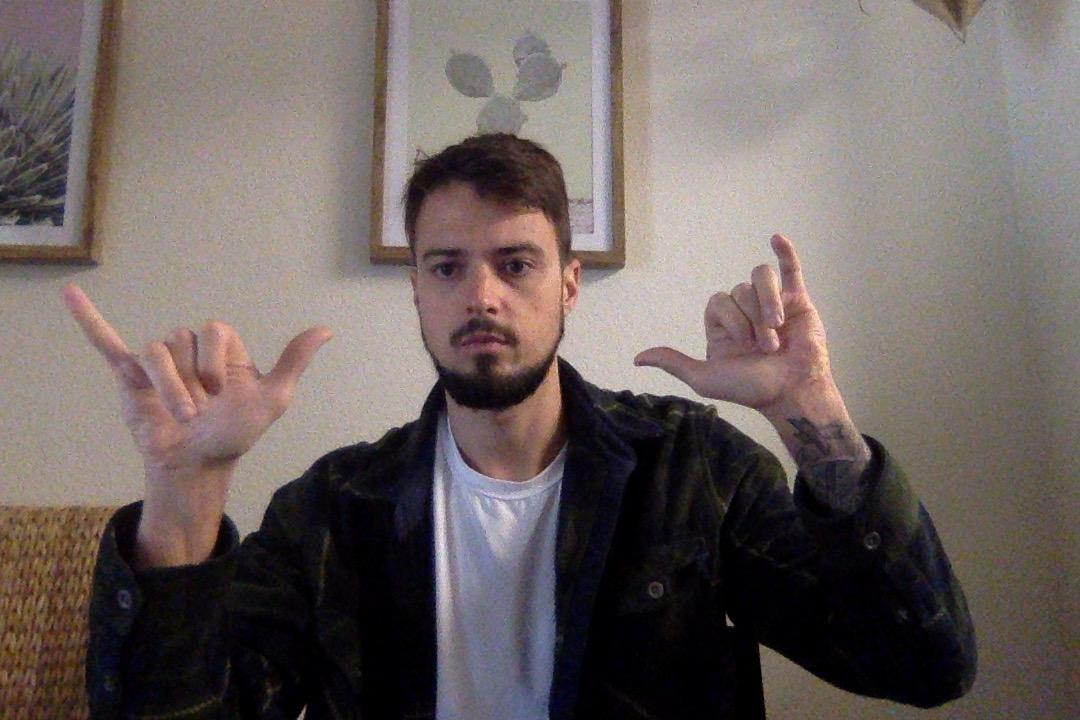Call-Me: (55, 273, 332, 478), (630, 222, 861, 453)
